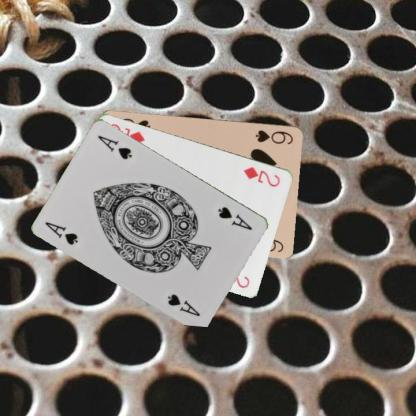2d: (241, 164, 282, 188)
6s: (253, 127, 295, 146)
As: (215, 204, 254, 232), (42, 219, 80, 247)
